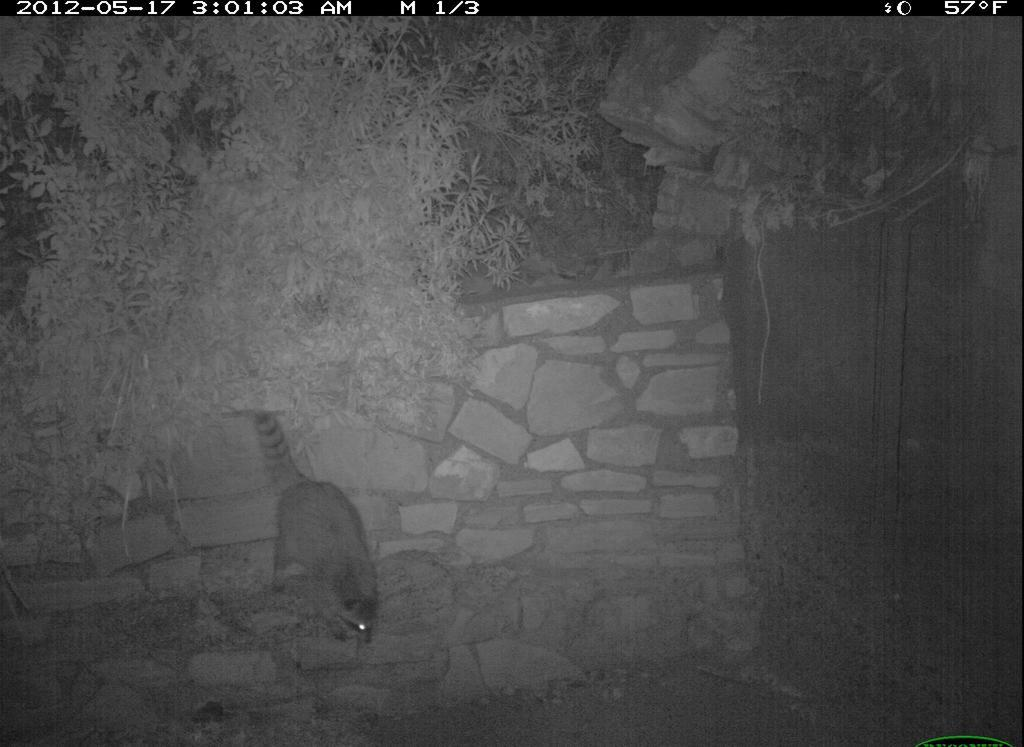raccoon: (226, 402, 419, 660)
